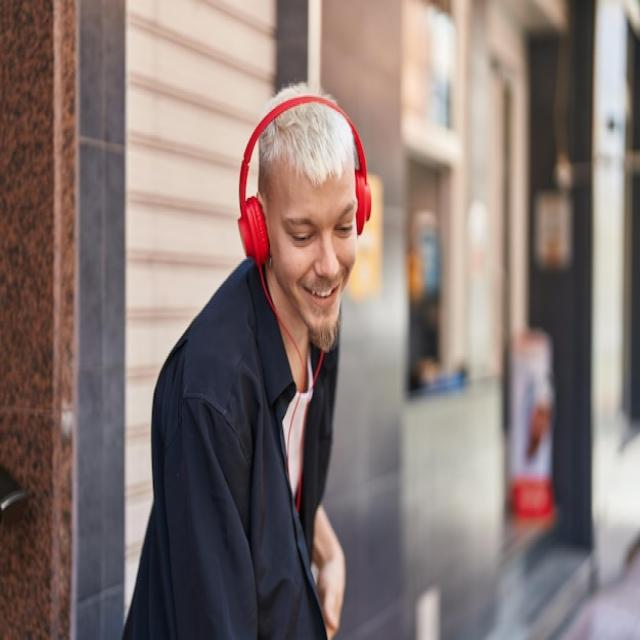Headphone: (235, 94, 372, 267)
